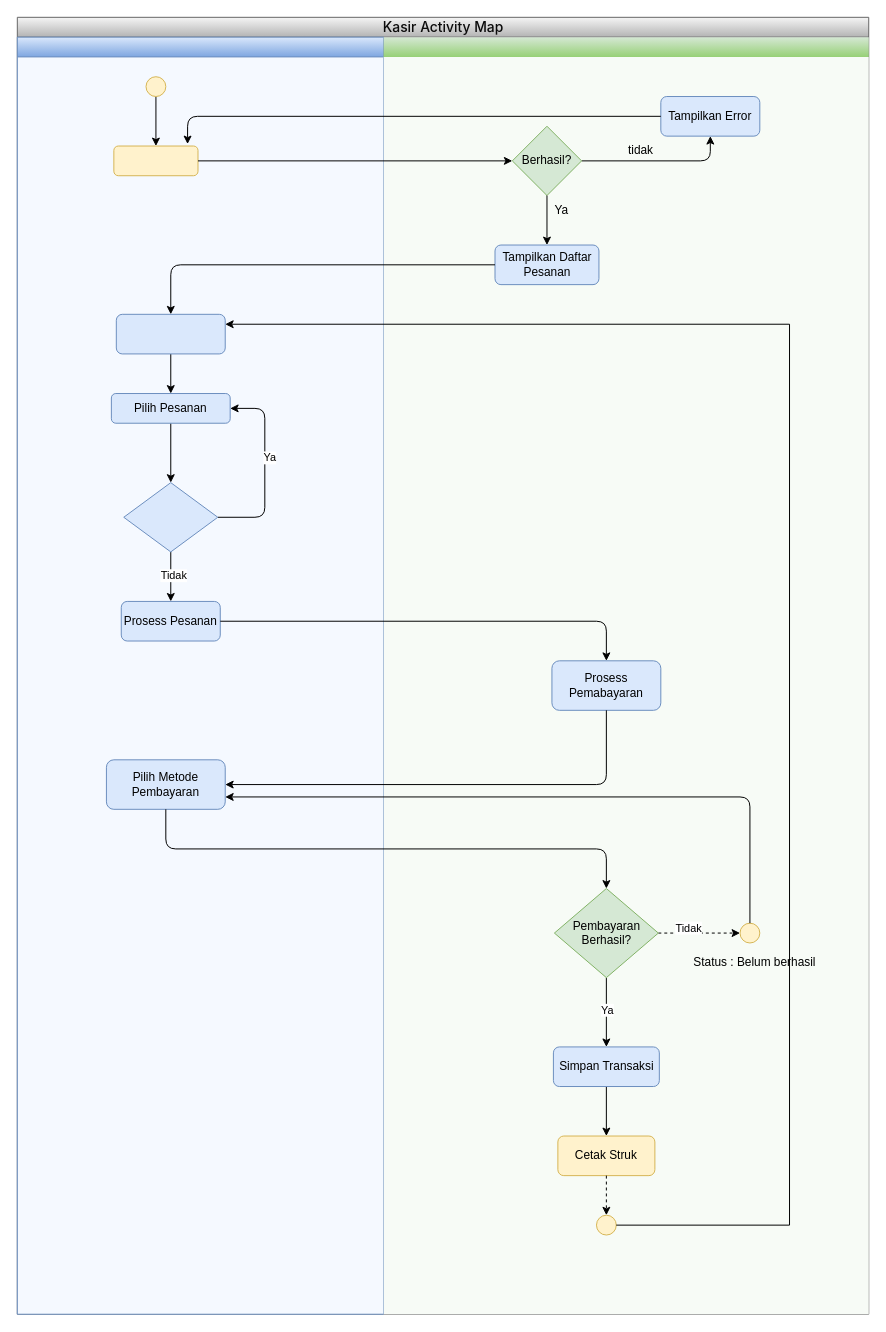
The diagram is 886 pixels wide and 1332 high, and some of its shapes have lost their labels. Each missing label, with the box of its shape:
Kasir: (16, 36, 384, 1314)
Login: (113, 145, 198, 176)
Melihat Daftar Pesanan: (115, 313, 225, 354)
Perlu Ubah Pesanan?: (123, 482, 218, 552)
Sistem: (383, 37, 868, 1314)
